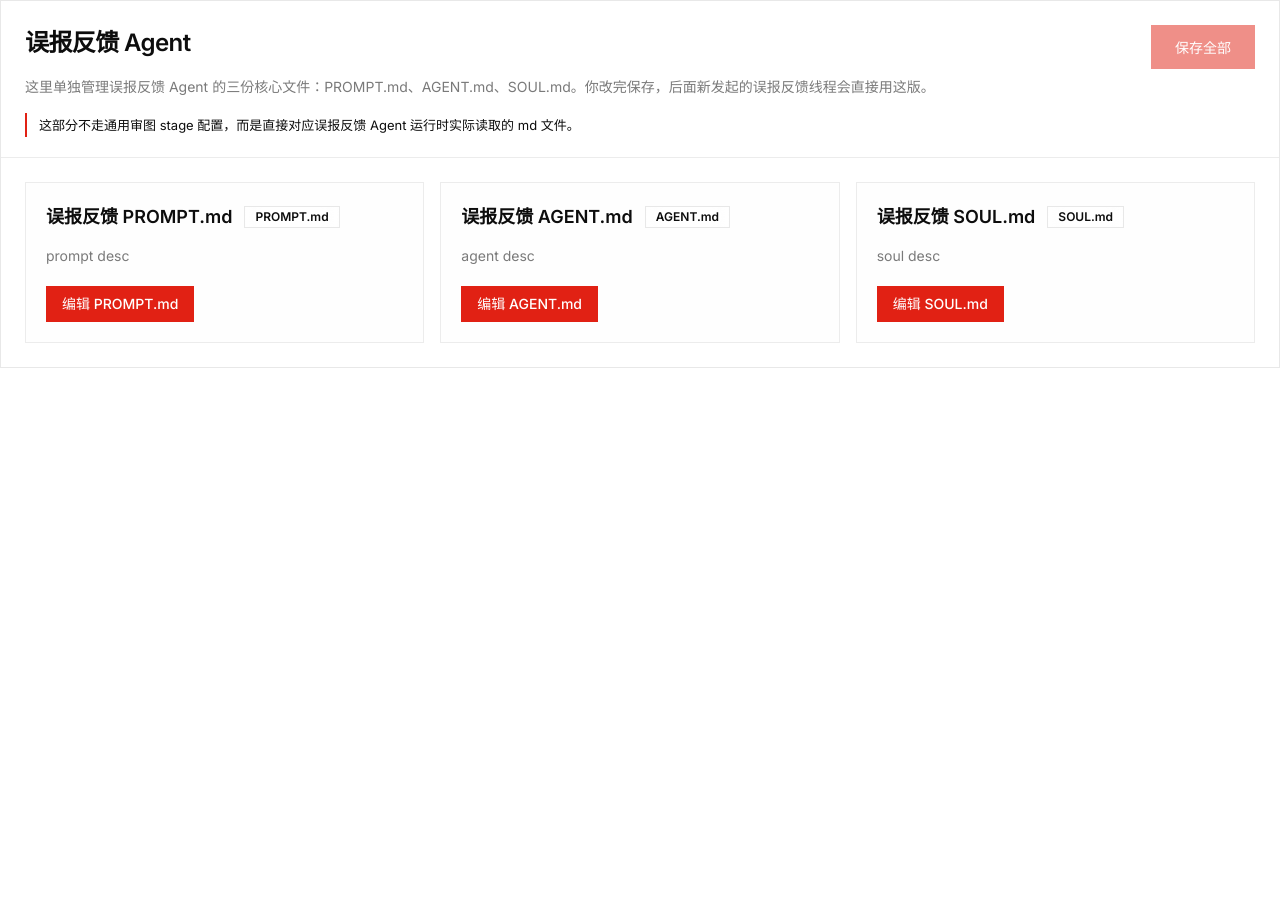
SettingsFeedbackAgentPrompts › saves edited asset content
Click the button "编辑 PROMPT.md" at (120, 304), box [46,286,194,322]
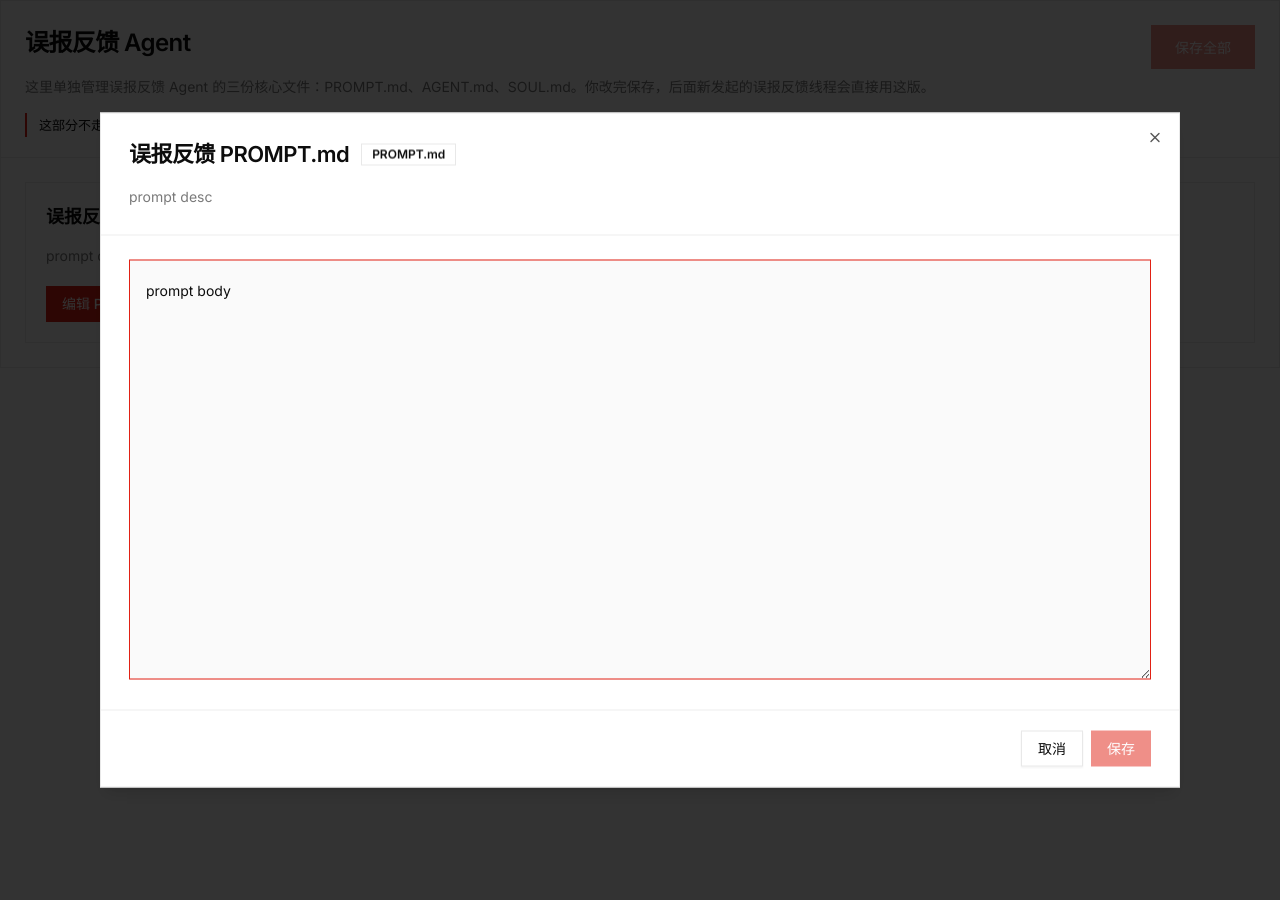
Replace the text in the text box showing "prompt body" with "new prompt body" at (640, 470), box [129,260,1151,680]
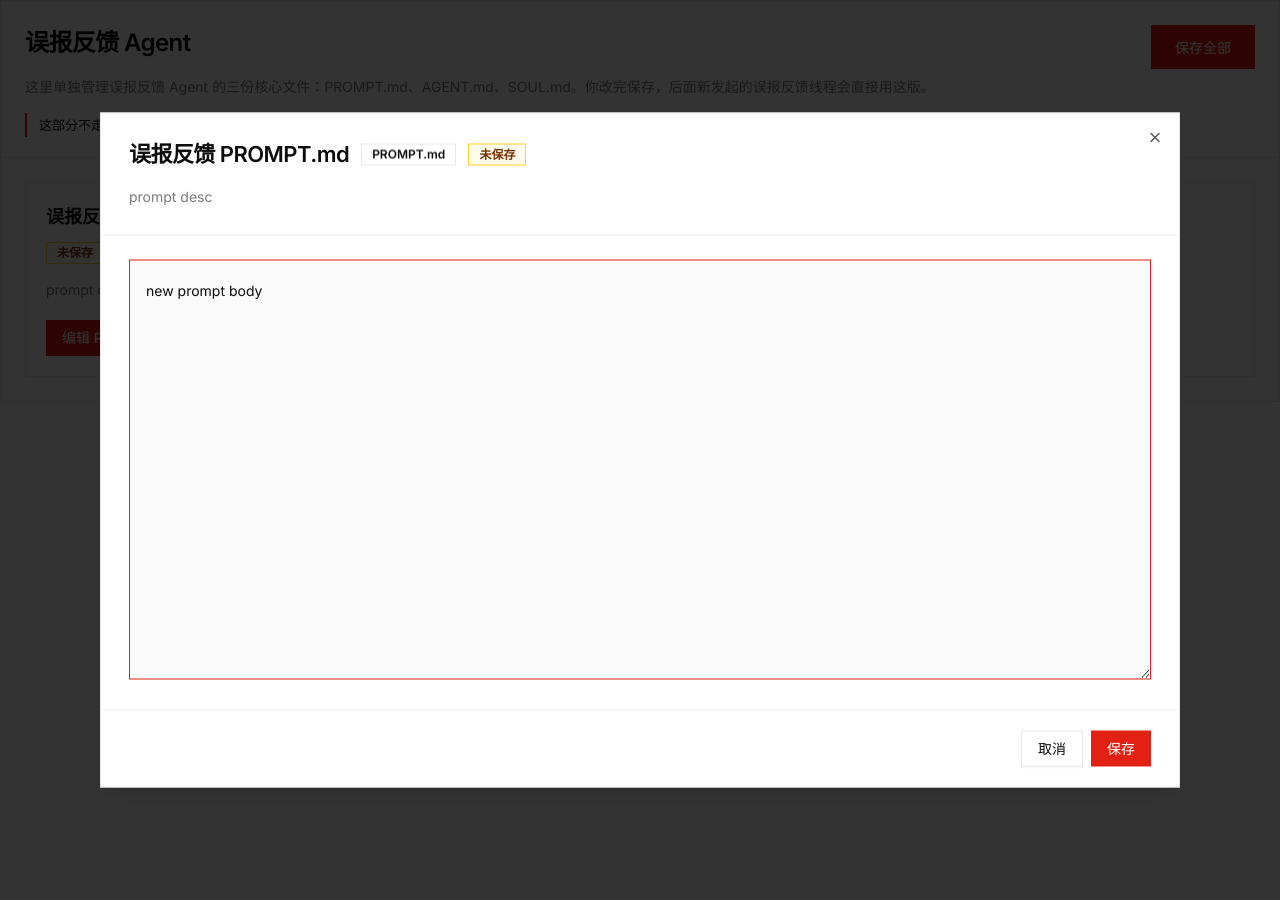
Click the button "保存" at (1121, 748), box [1091,730,1151,766]
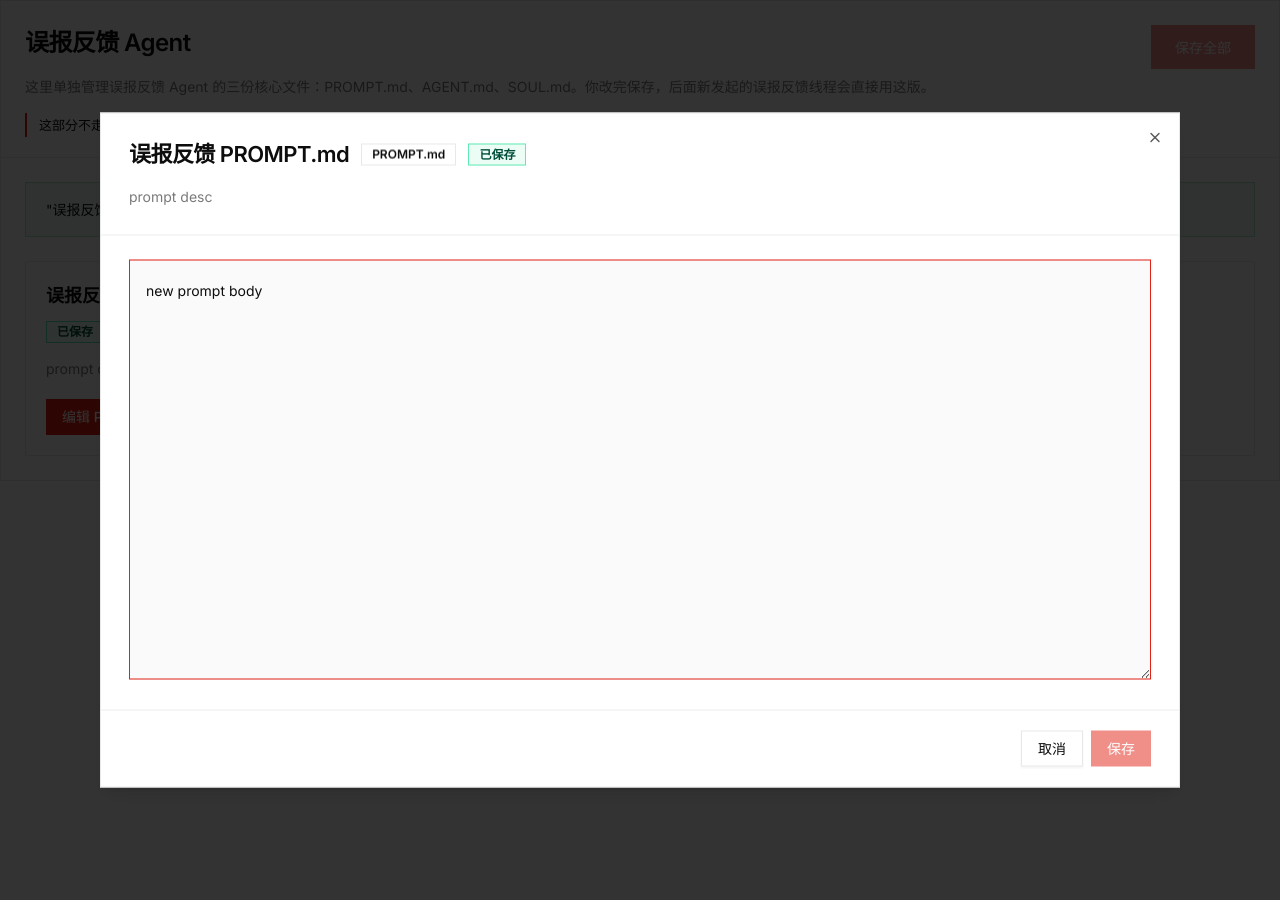
Result: the text "\"误报反馈 PROMPT.md\" 已保存，后面的误报反馈会直接用新内容。" is shown at [25,182,1255,237]
